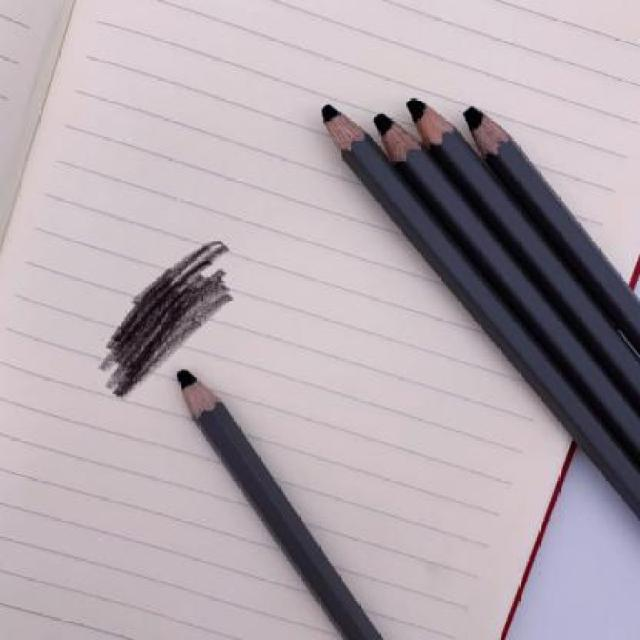pencil: (303, 87, 640, 522), (362, 100, 640, 471), (395, 83, 640, 414), (160, 352, 390, 640), (452, 91, 640, 359)
